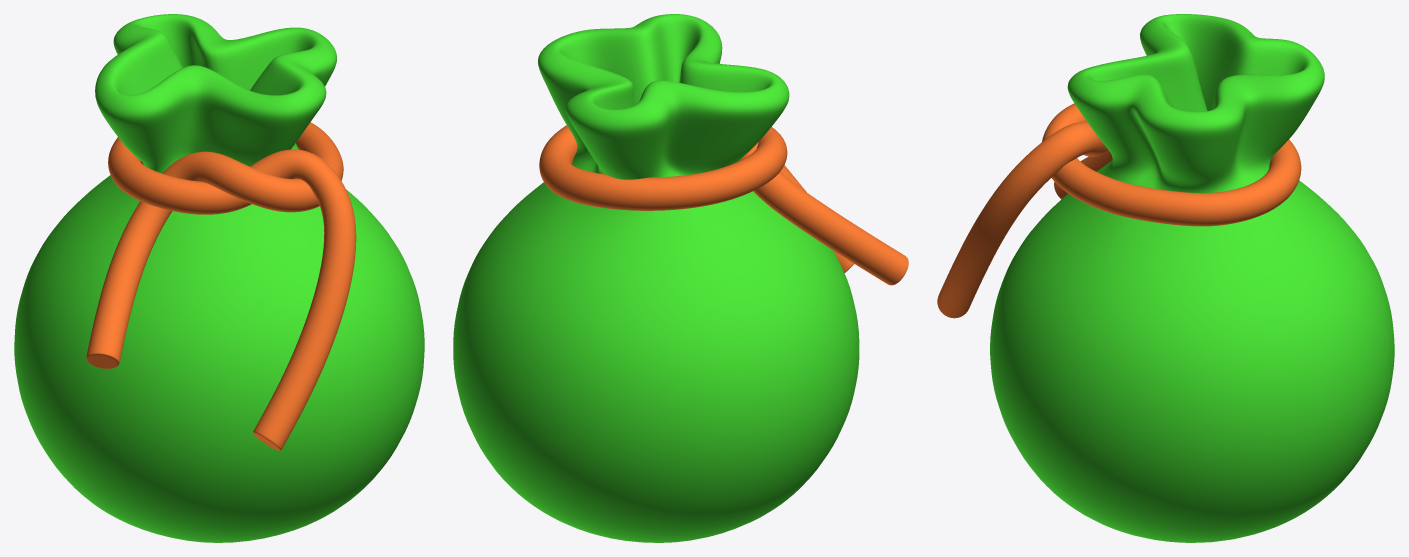
File: pouch.gltf
3 views of the same model, side by side, from view 1: azimuth 30°, elevation 25°; view 2: azimuth 150°, elevation 25°; view 3: azimuth 270°, elevation 25° (orthographic).
Parts seen in each view (by area): view 1: Cube.023; view 2: Cube.023; view 3: Cube.023.
Boxes of the visible parts, x1,y1,x2,y2 form: Cube.023: [14, 14, 424, 542]; Cube.023: [453, 14, 908, 542]; Cube.023: [937, 14, 1394, 542].
Size of the model in its own units: 1.56 by 1.91 by 1.69.
